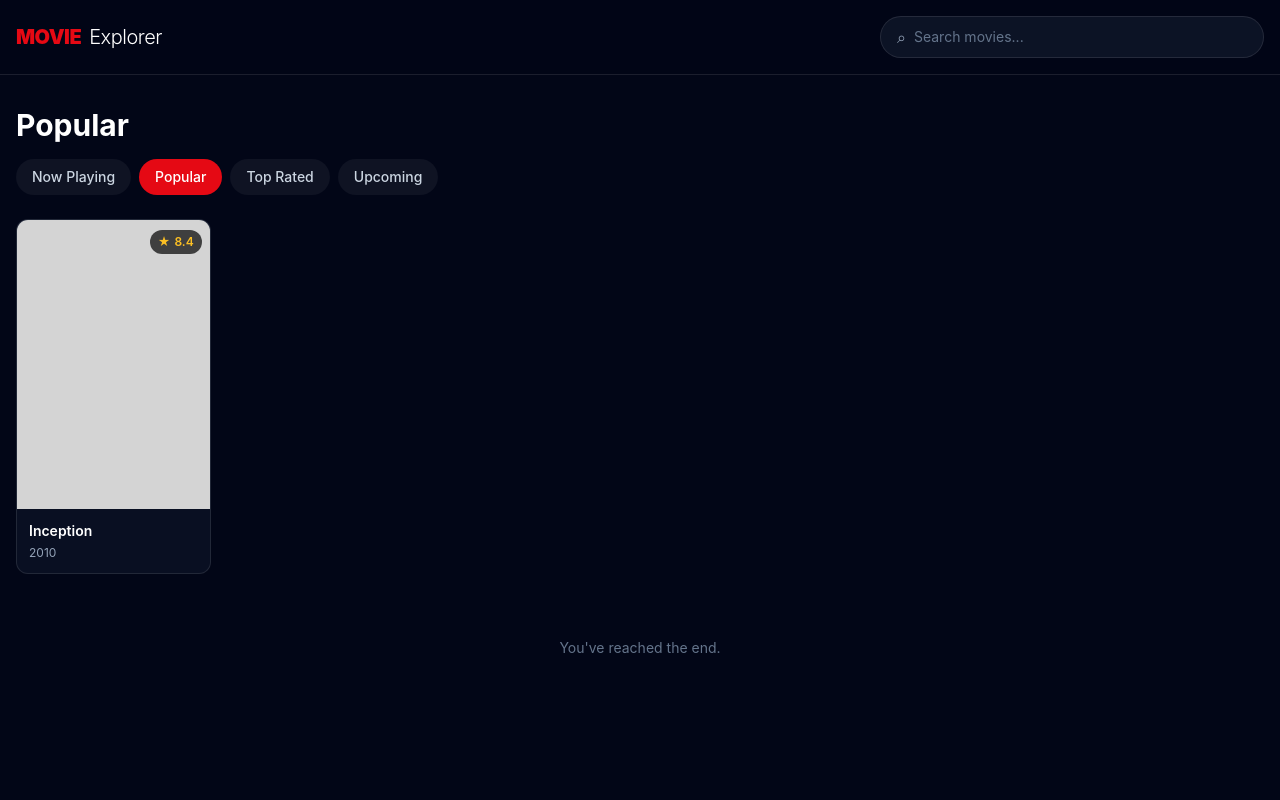
Test: MovieListPage › searches movies by title
The image size is (1280, 800).
Check: the heading "Inception" is shown, box 29,522 -> 92,539
In the search field: (1080,37) 914,27 -> 1247,47, type "Dune"
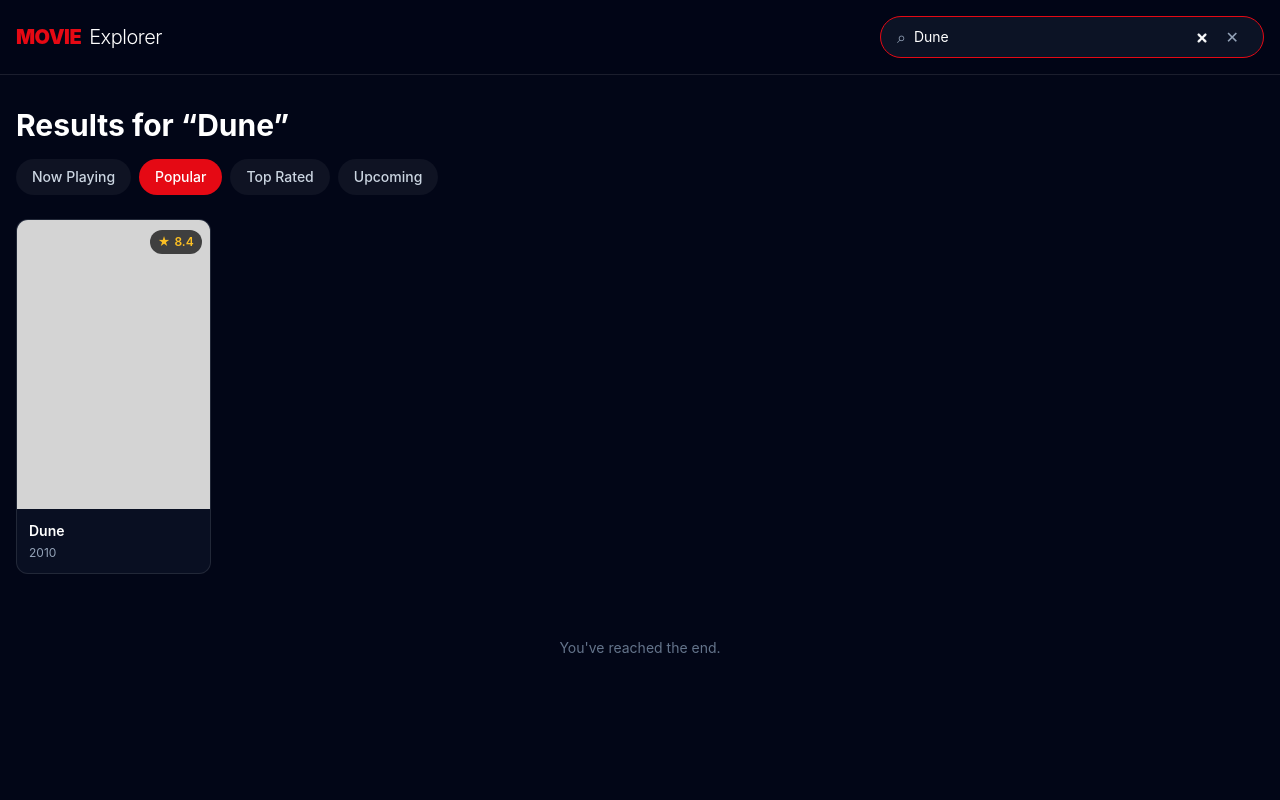
Check: the heading "Dune" is shown, box 29,522 -> 64,539
Check: the heading "Results for “Dune”" is shown, box 16,107 -> 289,143
